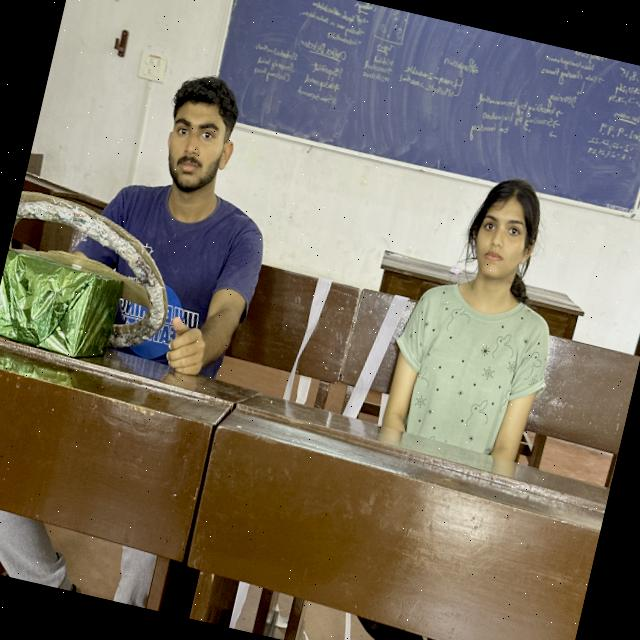no-seatbelt: (26, 150, 277, 402), (346, 268, 567, 492)
